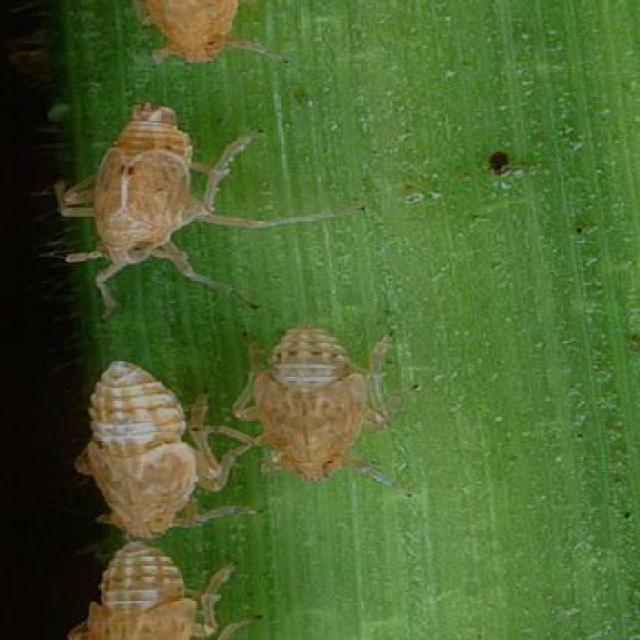brown-planthopper: (61, 98, 248, 307), (55, 356, 222, 538), (236, 323, 390, 485), (78, 546, 225, 640), (131, 0, 277, 65)
